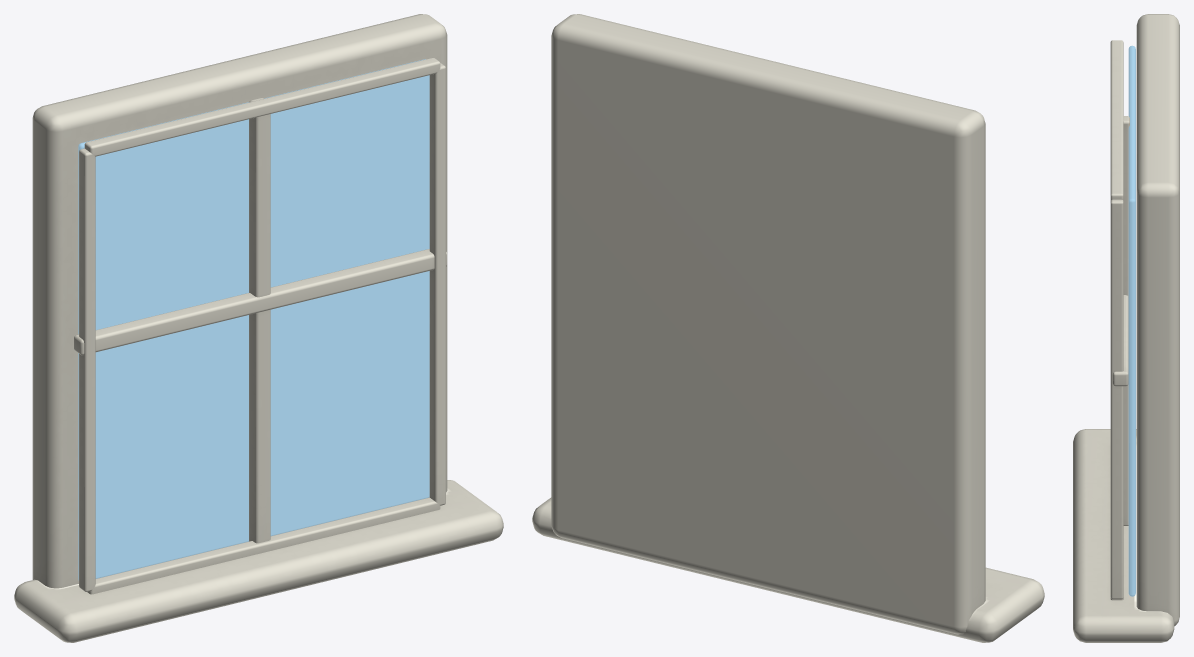
File: bathroomBathWindow.glb
The picture shows the model from 3 angles, left to right: view 1: azimuth 30°, elevation 25°; view 2: azimuth 150°, elevation 25°; view 3: azimuth 270°, elevation 25°; orthographic projection. The views are drawn at different scales.
Parts seen in each view (by area): view 1: Window glass, Window frame, Sill, Window muntin, Window crossbar, Opening sash upright, Opening sash upright.001, Opening sash rail.001, Opening sash rail; view 2: Window frame, Sill; view 3: Window frame, Sill, Opening sash upright.001, Window glass, Opening sash rail.001, Window muntin, Window crossbar.
Part boxes in pixels (x1,y1,x2,y2): Window glass: (78, 59, 429, 580); Window frame: (32, 14, 447, 588); Sill: (14, 480, 503, 642); Window muntin: (249, 98, 270, 543); Window crossbar: (74, 249, 447, 355); Opening sash upright: (79, 148, 95, 591); Opening sash upright.001: (429, 63, 445, 505); Opening sash rail.001: (84, 57, 440, 156); Opening sash rail: (87, 497, 440, 594); Window frame: (551, 14, 985, 634); Sill: (532, 497, 1044, 642); Window frame: (1136, 14, 1179, 626); Sill: (1073, 429, 1174, 642); Opening sash upright.001: (1110, 199, 1123, 599); Window glass: (1128, 45, 1135, 596); Opening sash rail.001: (1110, 40, 1123, 200); Window muntin: (1123, 116, 1129, 525); Window crossbar: (1112, 295, 1128, 386).
Size of the model in its own units: 1.61 by 1.72 by 0.37.
